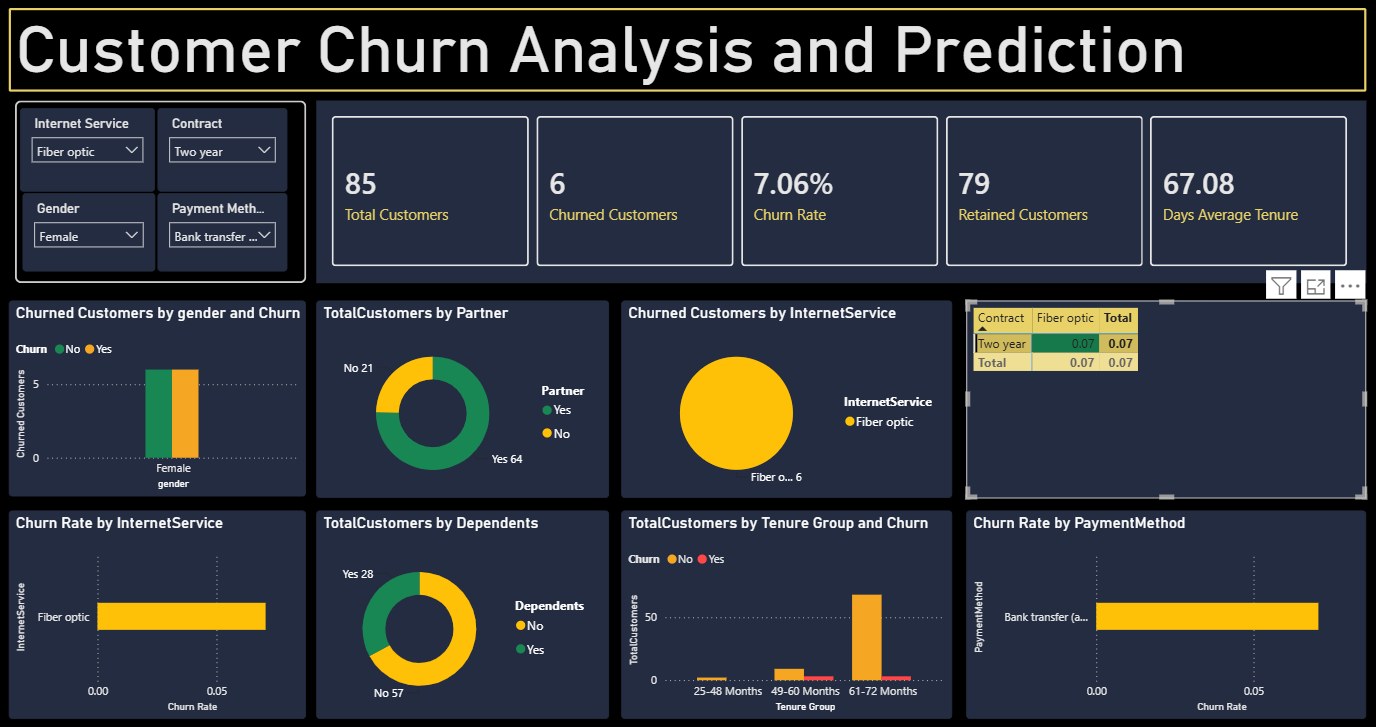

The page's visual inventory and layout, read from the dashboard file:
{"tool":"powerbi","page":{"name":"Page 1","canvas":[1500,800],"ordinal":0},"visuals":[{"type":"cardVisual","fields":{"Data":["Telco_churn.TotalCustomers","Telco_churn.Churned Customers","Telco_churn.Churn Rate","Telco_churn.Retained Customers","Telco_churn.Average Tenure"]},"box":[344.8,111.7,1144.6,198.9],"z":0},{"type":"clusteredColumnChart","fields":{"Category":["Telco_churn.gender"],"Y":["Telco_churn.Churned Customers"],"Series":["Telco_churn.Churn"]},"box":[9.5,329.8,324.3,213.9],"z":1000},{"type":"donutChart","fields":{"Y":["Telco_churn.TotalCustomers"],"Category":["Telco_churn.Partner"]},"box":[344.8,329.8,318.9,215.3],"z":2000},{"type":"donutChart","fields":{"Y":["Telco_churn.TotalCustomers"],"Category":["Telco_churn.Dependents"]},"box":[344.8,558.7,318.9,227.6],"z":3000},{"type":"clusteredColumnChart","fields":{"Category":["Telco_churn.Tenure Group"],"Y":["Telco_churn.TotalCustomers"],"Series":["Telco_churn.Churn"]},"box":[677.2,558.7,361.1,227.6],"z":4000},{"type":"barChart","fields":{"Y":["Telco_churn.Churn Rate"],"Category":["Telco_churn.PaymentMethod"]},"box":[1053.3,558.7,436,227.6],"z":5000},{"type":"barChart","fields":{"Y":["Telco_churn.Churn Rate"],"Category":["Telco_churn.InternetService"]},"box":[9.5,558.7,324.3,227.6],"z":6000},{"type":"pivotTable","fields":{"Rows":["Telco_churn.Contract"],"Columns":["Telco_churn.InternetService"],"Values":["Telco_churn.Churn Rate"]},"box":[1053.3,329.8,436,215.3],"z":7000},{"type":"pieChart","fields":{"Category":["Telco_churn.InternetService"],"Y":["Telco_churn.Churned Customers"]},"box":[677.2,329.8,361.1,215.3],"z":12000},{"type":"shape","box":[16.4,111.7,317.5,198.9],"z":13000},{"type":"textbox","title":"Customer Churn Analysis and Prediction","box":[9.5,10.9,1479.8,91.3],"z":14000},{"type":"slicer","fields":{"Values":["Telco_churn.PaymentMethod"]},"box":[171.7,212.6,141.7,85.8],"z":14001},{"type":"slicer","title":"Gender","fields":{"Values":["Telco_churn.gender"]},"box":[24.5,212.6,144.4,85.8],"z":14002},{"type":"slicer","fields":{"Values":["Telco_churn.InternetService"]},"box":[21.8,119.9,147.2,91.3],"z":14003},{"type":"slicer","fields":{"Values":["Telco_churn.Contract"]},"box":[171.7,119.9,141.7,91.3],"z":14004}]}

Visuals, with their boxes in screenshot pixels (x1, y1, x2, y2), scaled from the page's 1500x800 canvas onto the 1376x727 screenshot:
cardVisual - Telco_churn.TotalCustomers x Telco_churn.Churned Customers: [left=316, top=102, right=1366, bottom=282]
clusteredColumnChart - Telco_churn.gender x Telco_churn.Churned Customers: [left=9, top=300, right=306, bottom=494]
donutChart - Telco_churn.TotalCustomers x Telco_churn.Partner: [left=316, top=300, right=609, bottom=495]
donutChart - Telco_churn.TotalCustomers x Telco_churn.Dependents: [left=316, top=508, right=609, bottom=715]
clusteredColumnChart - Telco_churn.Tenure Group x Telco_churn.TotalCustomers: [left=621, top=508, right=952, bottom=715]
barChart - Telco_churn.Churn Rate x Telco_churn.PaymentMethod: [left=966, top=508, right=1366, bottom=715]
barChart - Telco_churn.Churn Rate x Telco_churn.InternetService: [left=9, top=508, right=306, bottom=715]
pivotTable - Telco_churn.Contract x Telco_churn.InternetService: [left=966, top=300, right=1366, bottom=495]
pieChart - Telco_churn.InternetService x Telco_churn.Churned Customers: [left=621, top=300, right=952, bottom=495]
shape: [left=15, top=102, right=306, bottom=282]
"Customer Churn Analysis and Prediction" textbox: [left=9, top=10, right=1366, bottom=93]
slicer - Telco_churn.PaymentMethod: [left=158, top=193, right=287, bottom=271]
"Gender" slicer: [left=22, top=193, right=155, bottom=271]
slicer - Telco_churn.InternetService: [left=20, top=109, right=155, bottom=192]
slicer - Telco_churn.Contract: [left=158, top=109, right=287, bottom=192]
